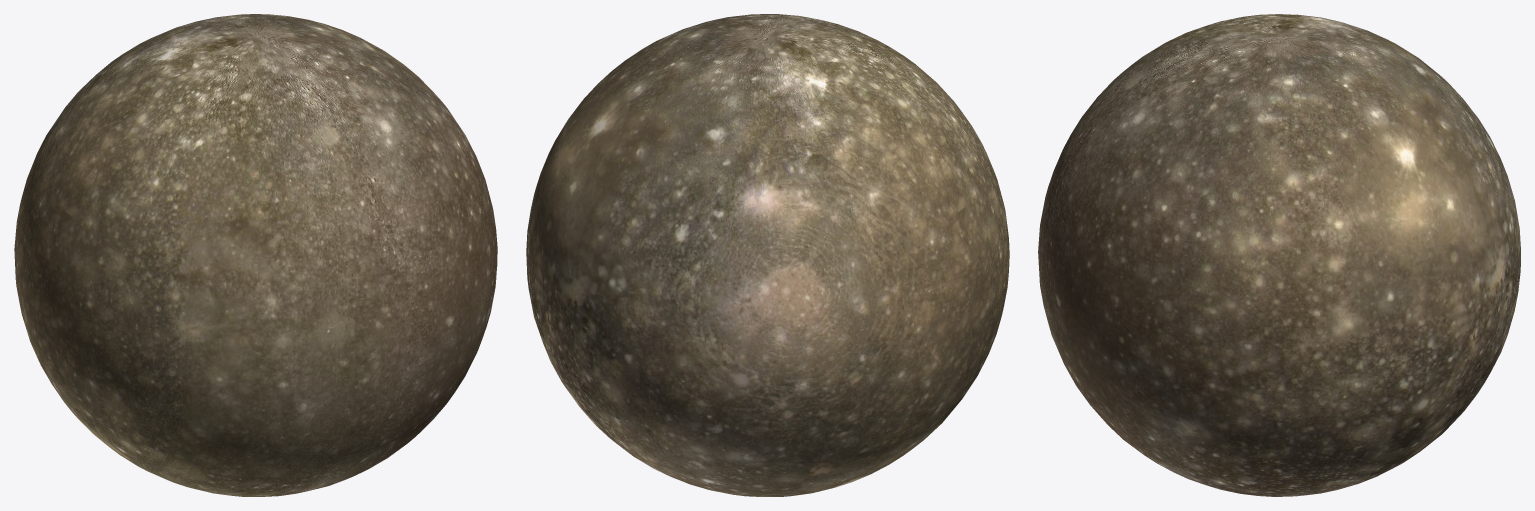
The model's file is Calisto_Low.fbx.
3 renders of one model, left to right at view 1: azimuth 30°, elevation 25°; view 2: azimuth 150°, elevation 25°; view 3: azimuth 270°, elevation 25°, orthographic.
Parts seen in each view (by area): view 1: Calisto_Low; view 2: Calisto_Low; view 3: Calisto_Low.
Boxes of the visible parts, x1,y1,x2,y2 form: Calisto_Low: (14,14,497,496); Calisto_Low: (526,14,1009,496); Calisto_Low: (1038,14,1520,496).
Size of the model in its own units: 200 by 200 by 200.
1 material, 1 textured.
